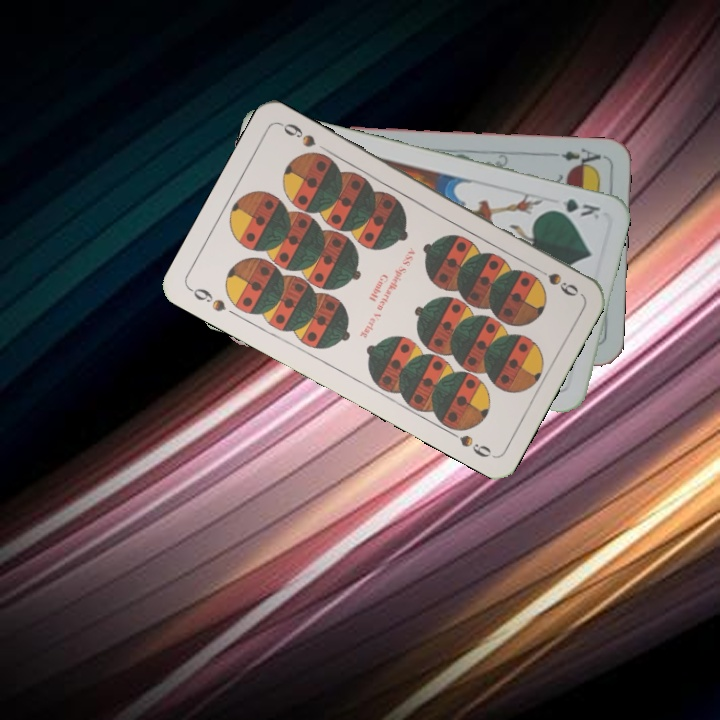EA: (557, 143, 604, 171)
GK: (545, 194, 603, 223)
S9: (528, 262, 581, 300), (185, 284, 229, 315)
